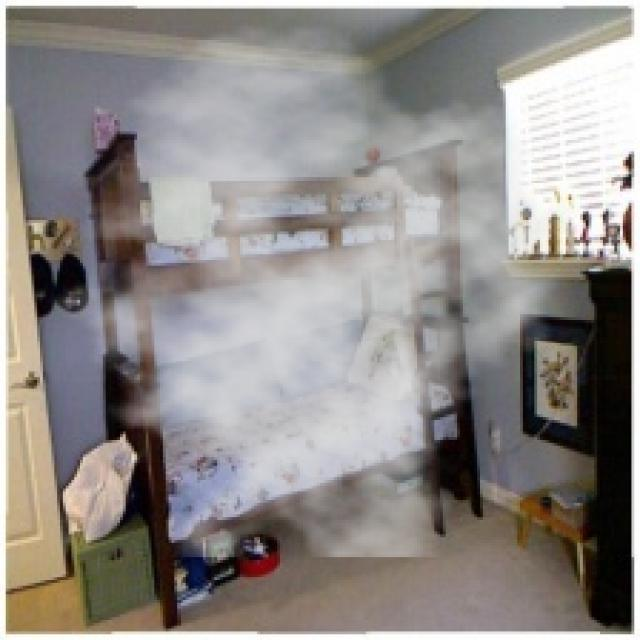Smoke: (25, 22, 578, 558)
